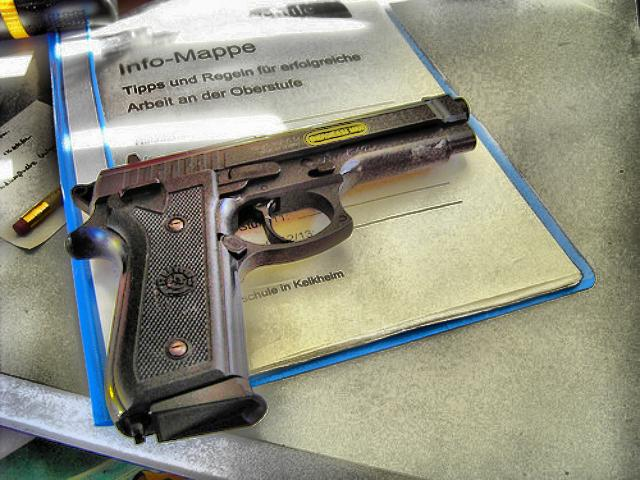pistol: (62, 88, 476, 444)
